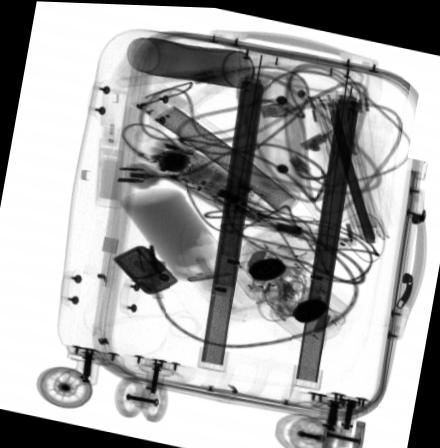Lighter: (110, 244, 177, 293)
